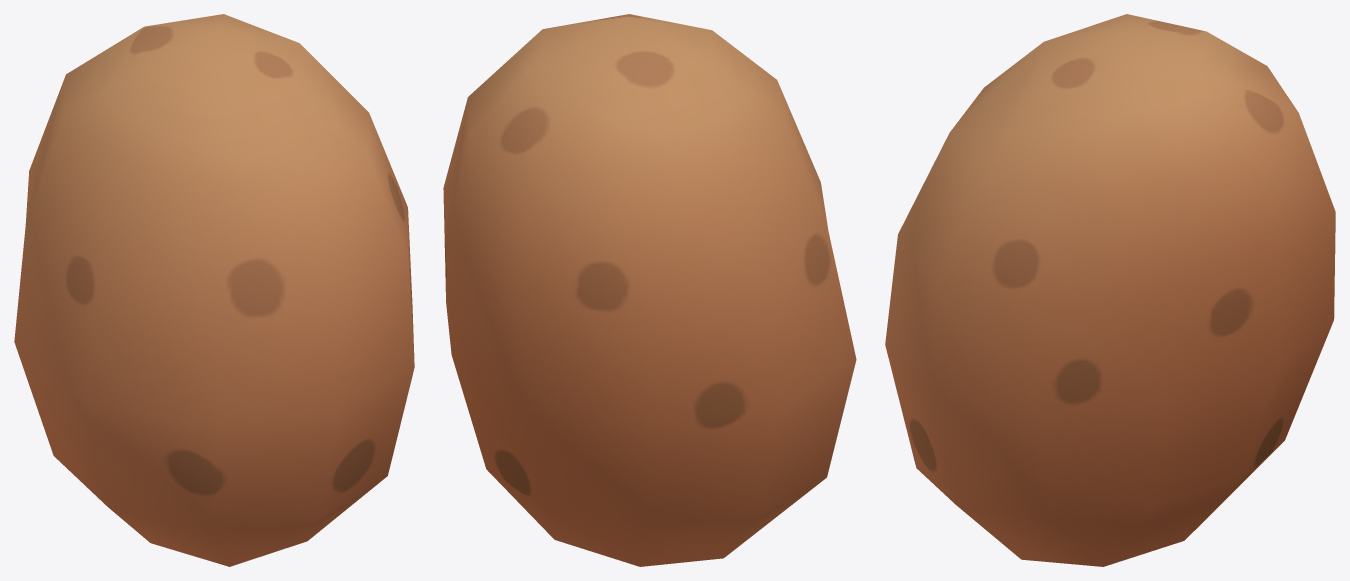
Rendered from Food_Vegetables_Potato.gltf.
3 views of the same model, side by side, from view 1: azimuth 30°, elevation 25°; view 2: azimuth 150°, elevation 25°; view 3: azimuth 270°, elevation 25° (orthographic). The views are drawn at different scales.
Parts seen in each view (by area): view 1: Food_Vegetables_Potato; view 2: Food_Vegetables_Potato; view 3: Food_Vegetables_Potato.
Boxes of the visible parts, x1,y1,x2,y2 form: Food_Vegetables_Potato: (14, 14, 414, 566); Food_Vegetables_Potato: (443, 14, 856, 566); Food_Vegetables_Potato: (885, 14, 1335, 566).
Bounding box in the file's own units: 0.1246 × 0.1813 × 0.1419.
Materials: 1 (1 with a texture image).
